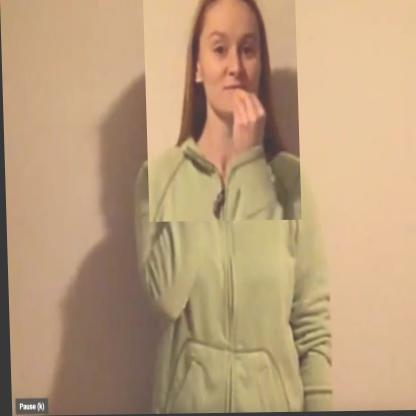Food: (143, 0, 300, 222)
